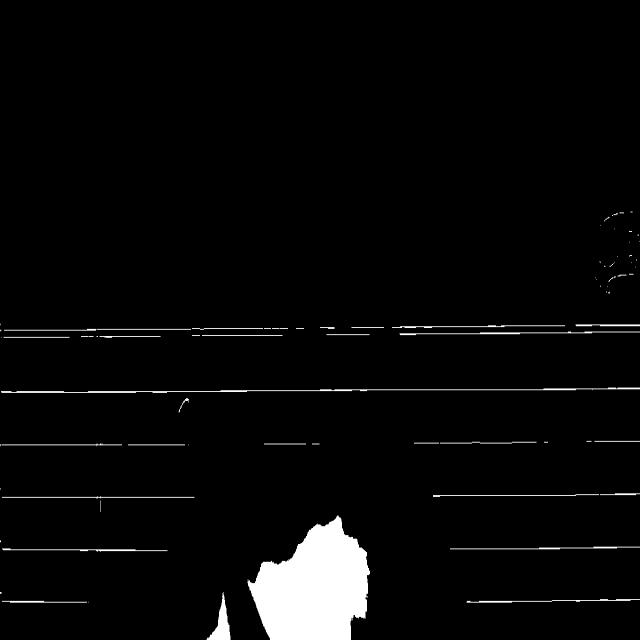hand: (250, 516, 369, 639), (208, 596, 230, 639)
noise: (250, 516, 369, 639), (250, 517, 369, 639), (0, 384, 640, 395), (596, 211, 640, 308), (317, 323, 640, 336), (596, 211, 640, 300), (596, 211, 640, 299), (0, 494, 194, 513), (0, 327, 308, 338), (450, 545, 640, 559), (0, 580, 88, 604), (432, 492, 640, 499), (0, 546, 168, 554), (208, 596, 230, 639), (208, 600, 230, 639), (412, 440, 538, 445), (0, 443, 186, 446), (586, 440, 640, 444), (264, 442, 306, 446)
not-noise: (178, 397, 188, 412)
page-marker: (596, 211, 640, 308)
